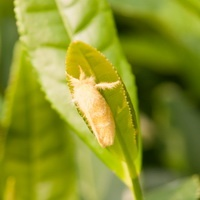insect: (66, 67, 114, 146)
